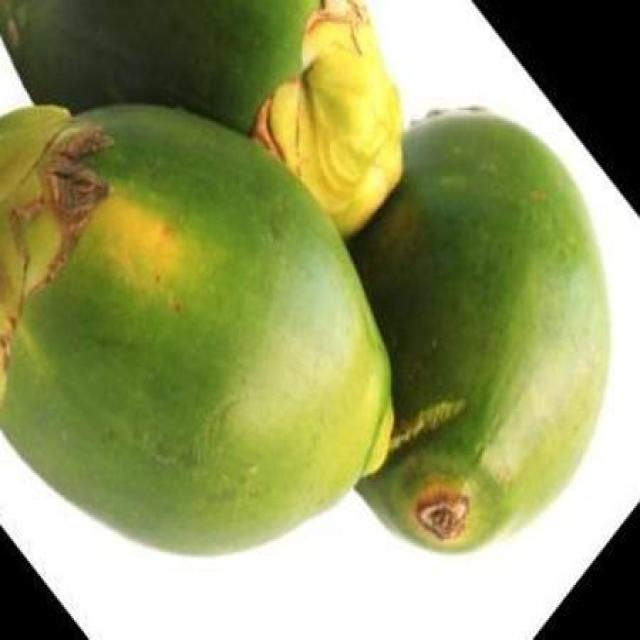good: (0, 105, 394, 561), (344, 110, 609, 556)
